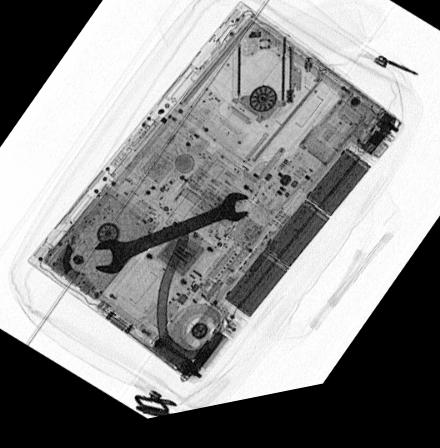Wrench: (93, 199, 250, 277)
